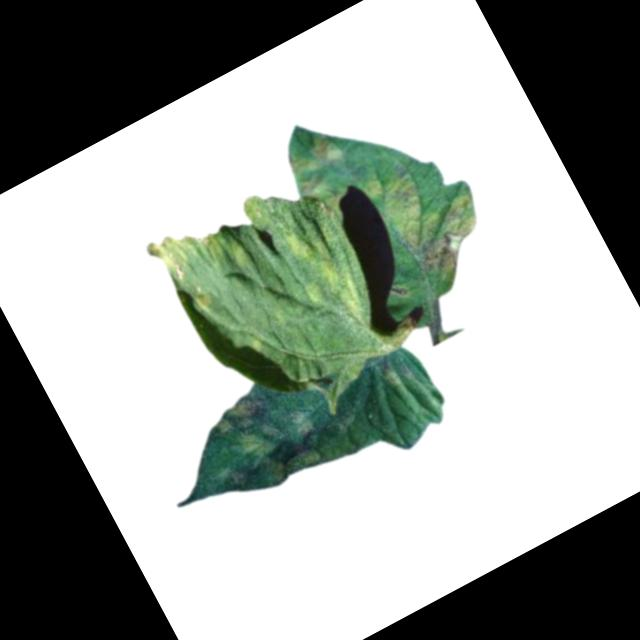Leaf_Mold: (361, 142, 499, 293), (192, 371, 329, 507), (276, 217, 369, 337), (142, 209, 229, 291), (276, 125, 356, 201), (188, 279, 221, 313)
